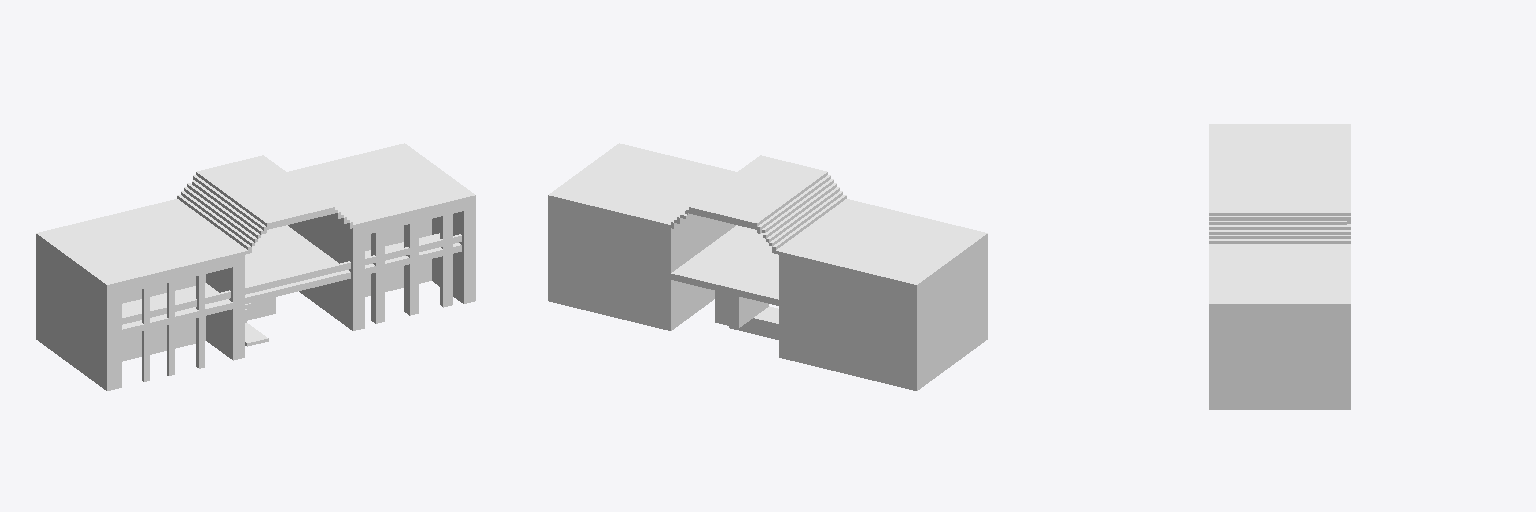
File: faccatPredioA.obj
The picture shows the model from 3 angles: view 1: azimuth 30°, elevation 25°; view 2: azimuth 150°, elevation 25°; view 3: azimuth 270°, elevation 25°; orthographic projection.
Bounding box in the file's own units: 120 × 40 × 40.